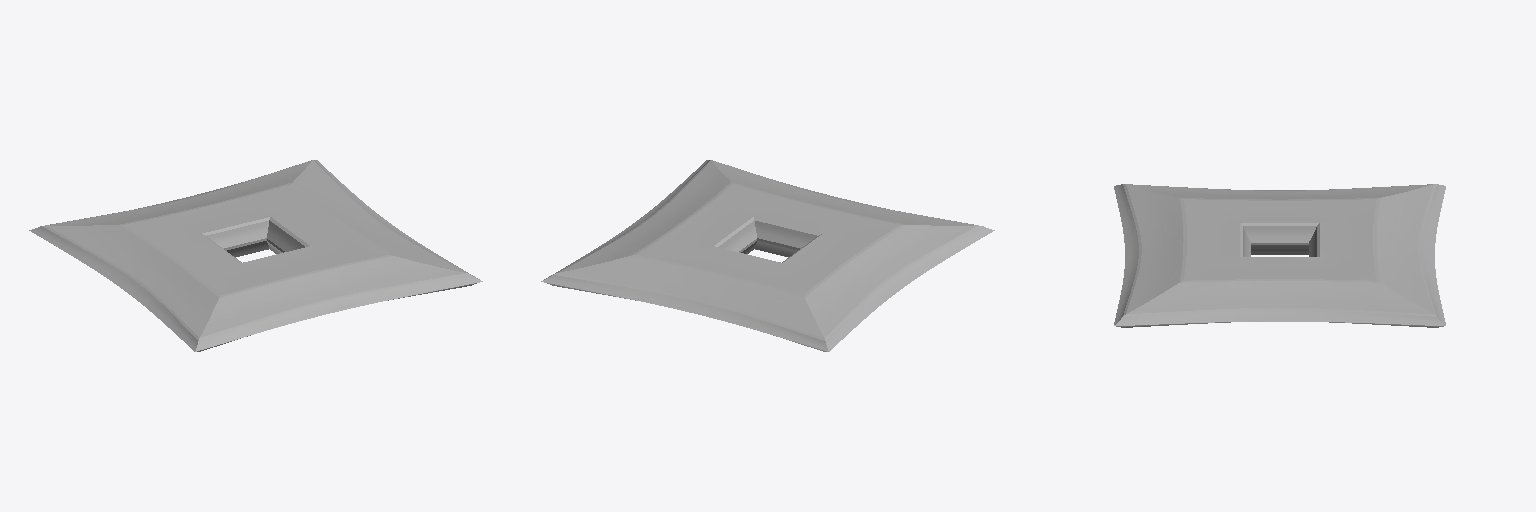
File: Shuriken_002_free.obj
3 views of the same model, side by side, from view 1: azimuth 30°, elevation 25°; view 2: azimuth 150°, elevation 25°; view 3: azimuth 270°, elevation 25° (orthographic).
Parts seen in each view (by area): view 1: shuriken_002_free; view 2: shuriken_002_free; view 3: shuriken_002_free.
Boxes of the visible parts, x1=… form: shuriken_002_free: x1=29, y1=160, x2=482, y2=351; shuriken_002_free: x1=541, y1=160, x2=994, y2=351; shuriken_002_free: x1=1114, y1=184, x2=1445, y2=327.
Bounding box in the file's own units: 6.07 × 0.6464 × 6.07.